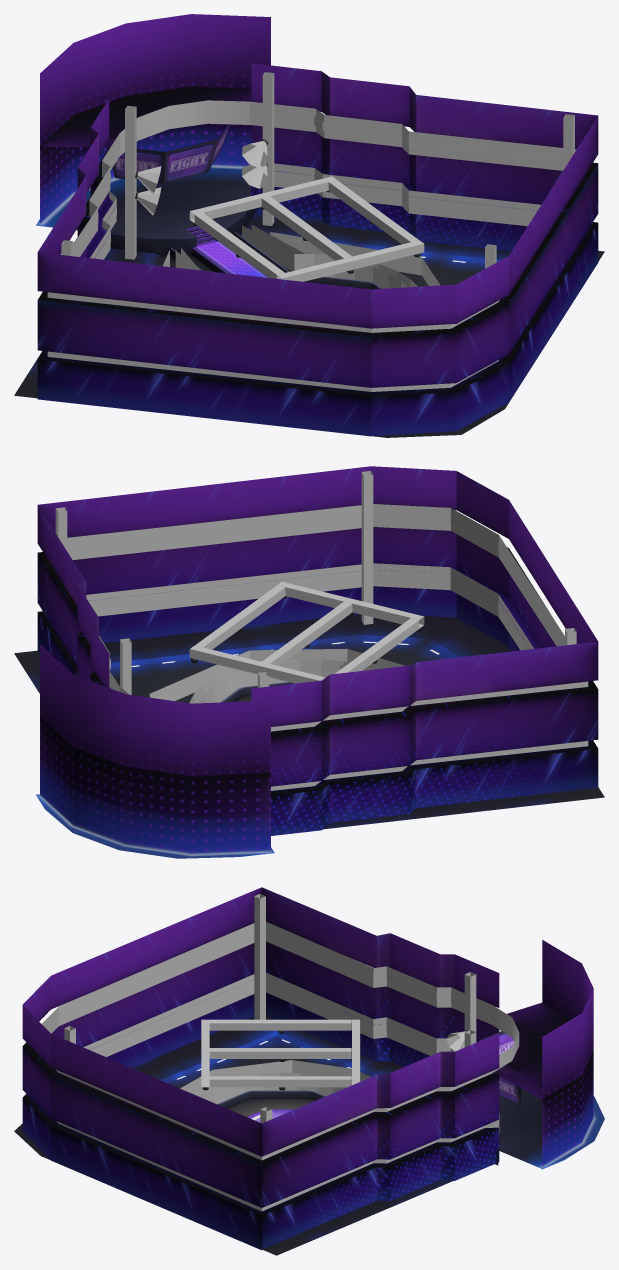
The model's file is stage_world_class.fbx.
3 renders of one model, top to bottom at view 1: azimuth 30°, elevation 25°; view 2: azimuth 150°, elevation 25°; view 3: azimuth 270°, elevation 25°, orthographic. The views are drawn at different scales.
Visible parts, largest first — view 1: stage.010, banner_glow, scaffold, scaffold_2, crowd.009, crowd.002, crowd.005; view 2: stage.010, banner_glow, scaffold, scaffold_2, crowd.009, crowd.002, crowd.003; view 3: stage.010, banner_glow, scaffold, scaffold_2, crowd.009, crowd.002.
Boxes of the visible parts, x1,y1,x2,y2 form: stage.010: (14, 14, 604, 437); banner_glow: (47, 100, 576, 391); scaffold: (189, 176, 424, 281); scaffold_2: (61, 72, 574, 268); crowd.009: (270, 232, 440, 285); crowd.002: (295, 257, 407, 288); crowd.005: (242, 225, 294, 270); stage.010: (14, 466, 604, 858); banner_glow: (67, 504, 588, 790); scaffold: (189, 582, 424, 683); scaffold_2: (55, 471, 576, 698); crowd.009: (149, 648, 405, 701); crowd.002: (199, 662, 363, 703); crowd.003: (189, 659, 374, 703); stage.010: (14, 887, 604, 1255); banner_glow: (42, 921, 519, 1211); scaffold: (201, 1019, 360, 1090); scaffold_2: (64, 894, 476, 1123); crowd.009: (180, 1060, 370, 1093); crowd.002: (199, 1075, 346, 1103).
Bounding box in the file's own units: 7430 × 2033 × 7455.
